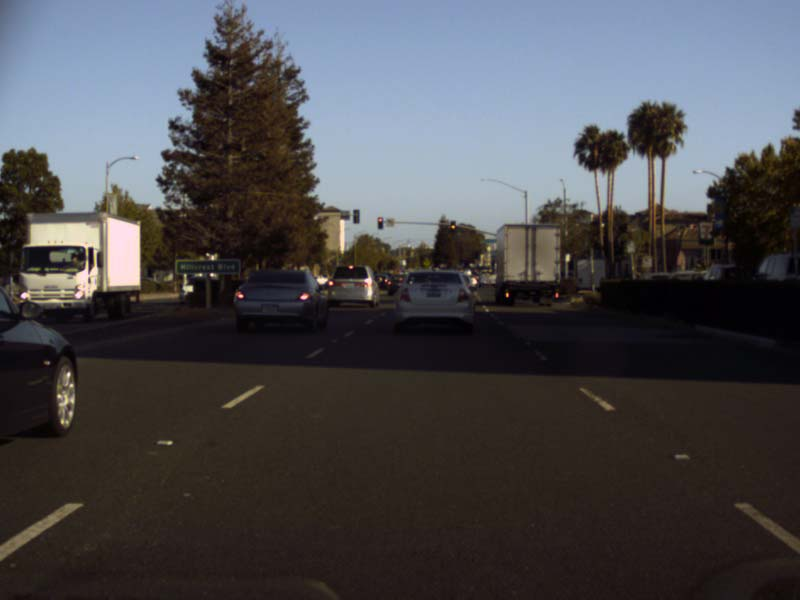Red: (377, 216, 383, 229)
Yellow: (449, 220, 455, 232)
